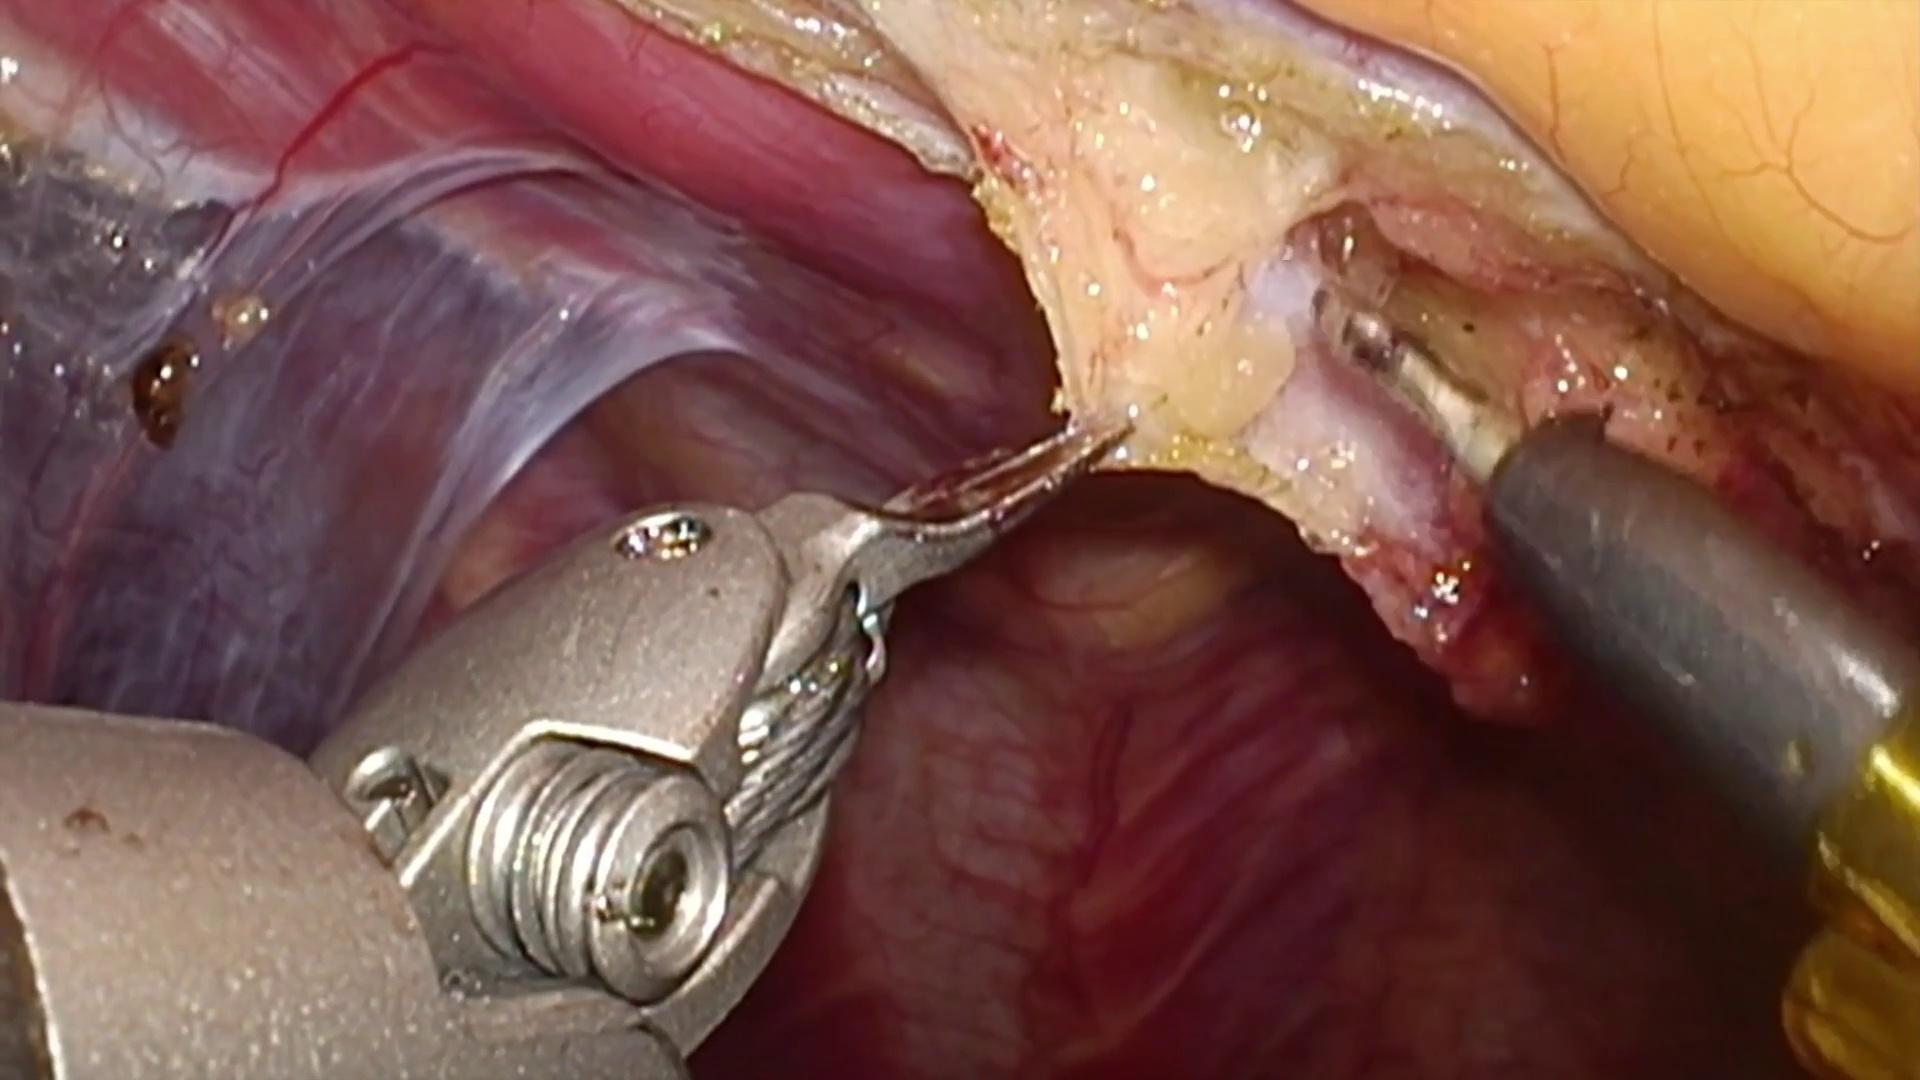Cautery_Spatula: (1323, 297, 1920, 851)
Debakey: (744, 398, 1134, 659)
